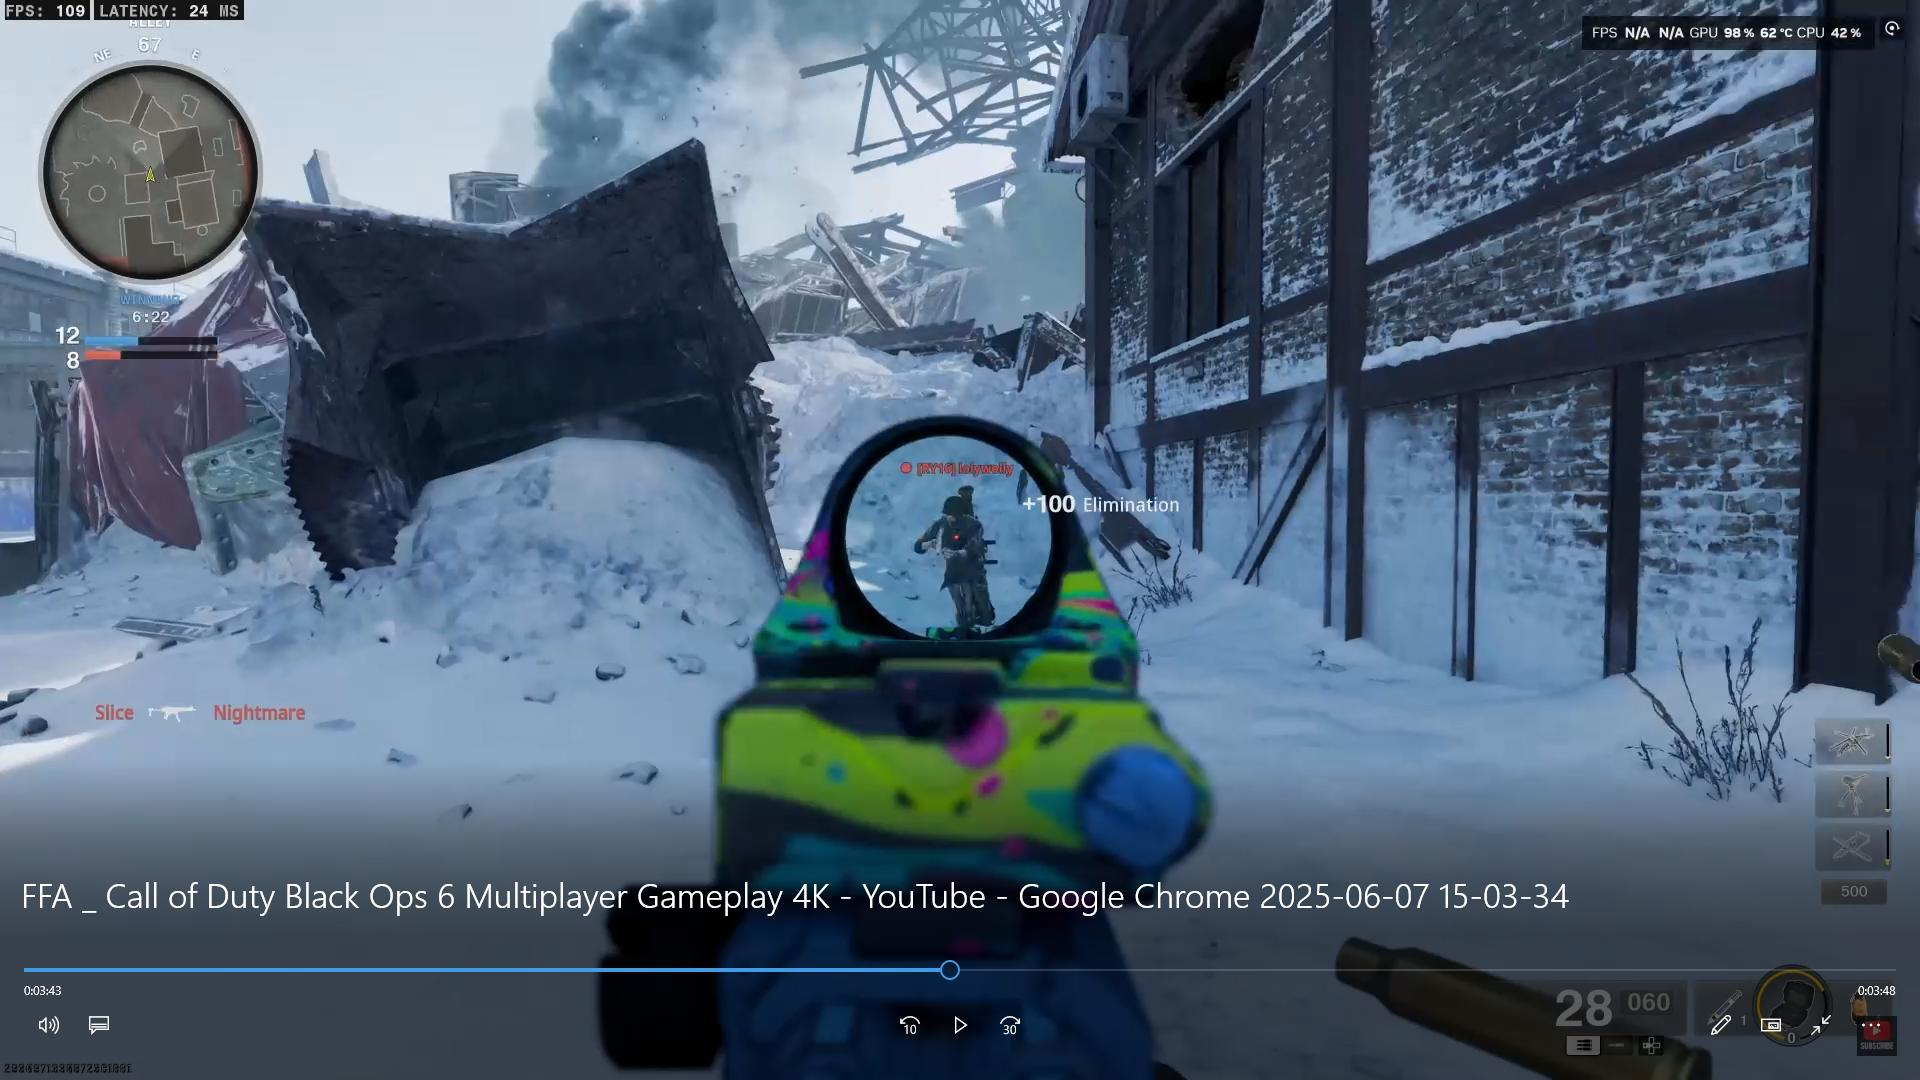Enemy: (909, 481, 1009, 630)
